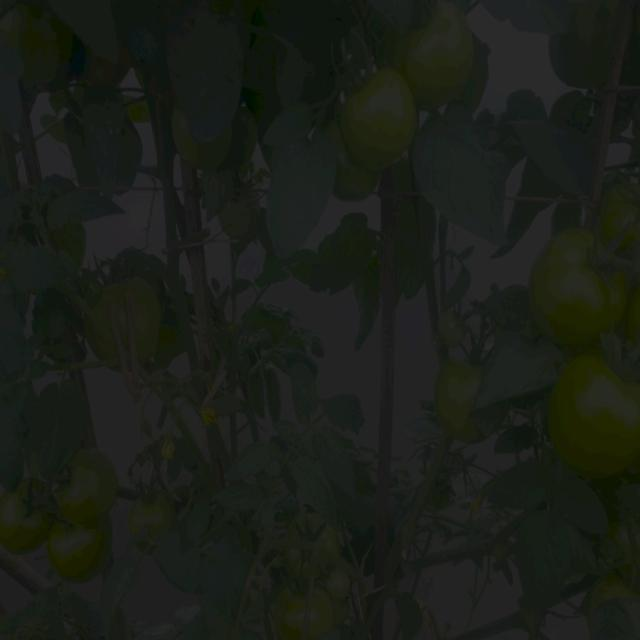tomato: (533, 229, 626, 346), (553, 353, 640, 478), (345, 71, 417, 171), (409, 1, 481, 99), (93, 279, 165, 363), (14, 1, 72, 91), (54, 449, 122, 522), (45, 521, 111, 584), (279, 577, 344, 640), (598, 179, 640, 254), (438, 361, 482, 431), (11, 482, 54, 550), (134, 485, 180, 536), (287, 511, 341, 552), (217, 194, 260, 244), (166, 111, 202, 161), (86, 49, 132, 87), (436, 304, 474, 350), (588, 575, 640, 605), (341, 170, 378, 209), (325, 568, 356, 601)
